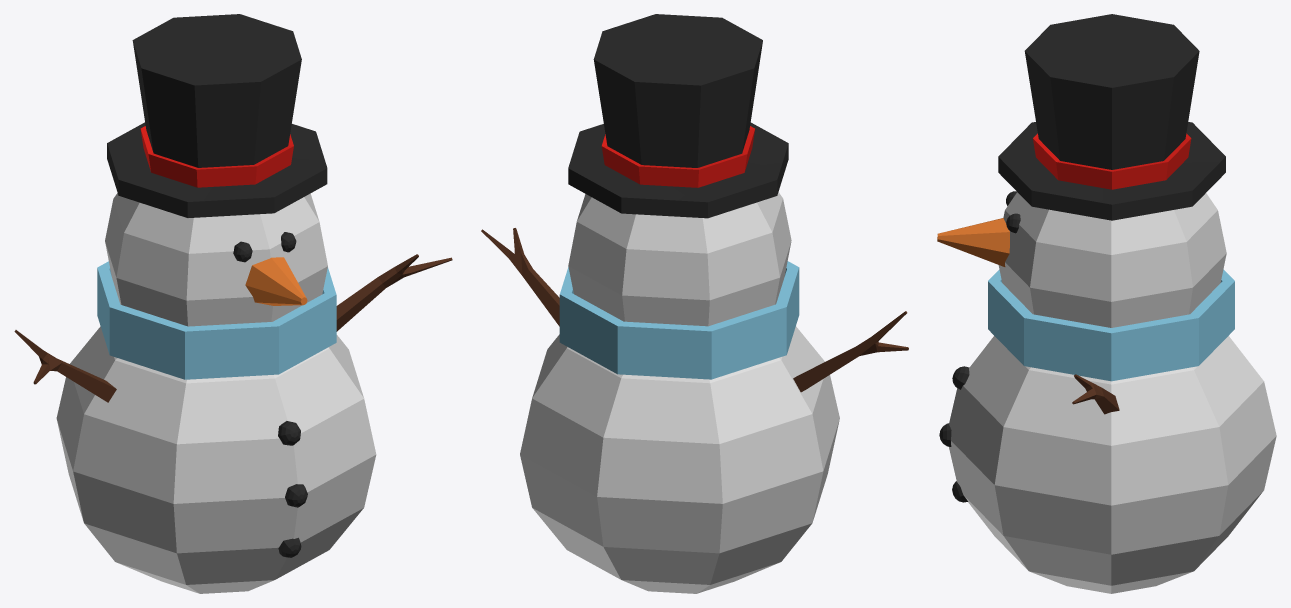
File: FH_Snowman.fbx
3 renders of one model, left to right at view 1: azimuth 30°, elevation 25°; view 2: azimuth 150°, elevation 25°; view 3: azimuth 270°, elevation 25°, orthographic.
Parts seen in each view (by area): view 1: Circle.015; view 2: Circle.015; view 3: Circle.015.
Boxes of the visible parts, x1=… form: Circle.015: x1=14, y1=14, x2=452, y2=593; Circle.015: x1=481, y1=14, x2=908, y2=593; Circle.015: x1=937, y1=14, x2=1276, y2=593.
Bounding box in the file's own units: 1220 × 1429 × 833.
